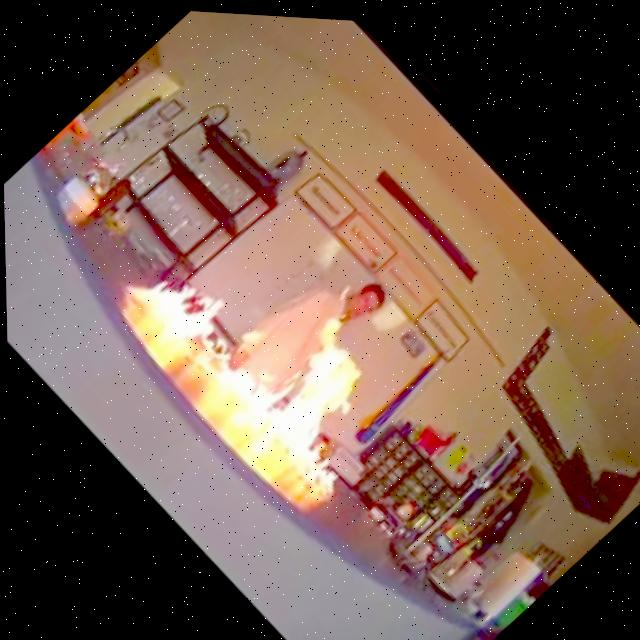Fire: (115, 184, 428, 509)
